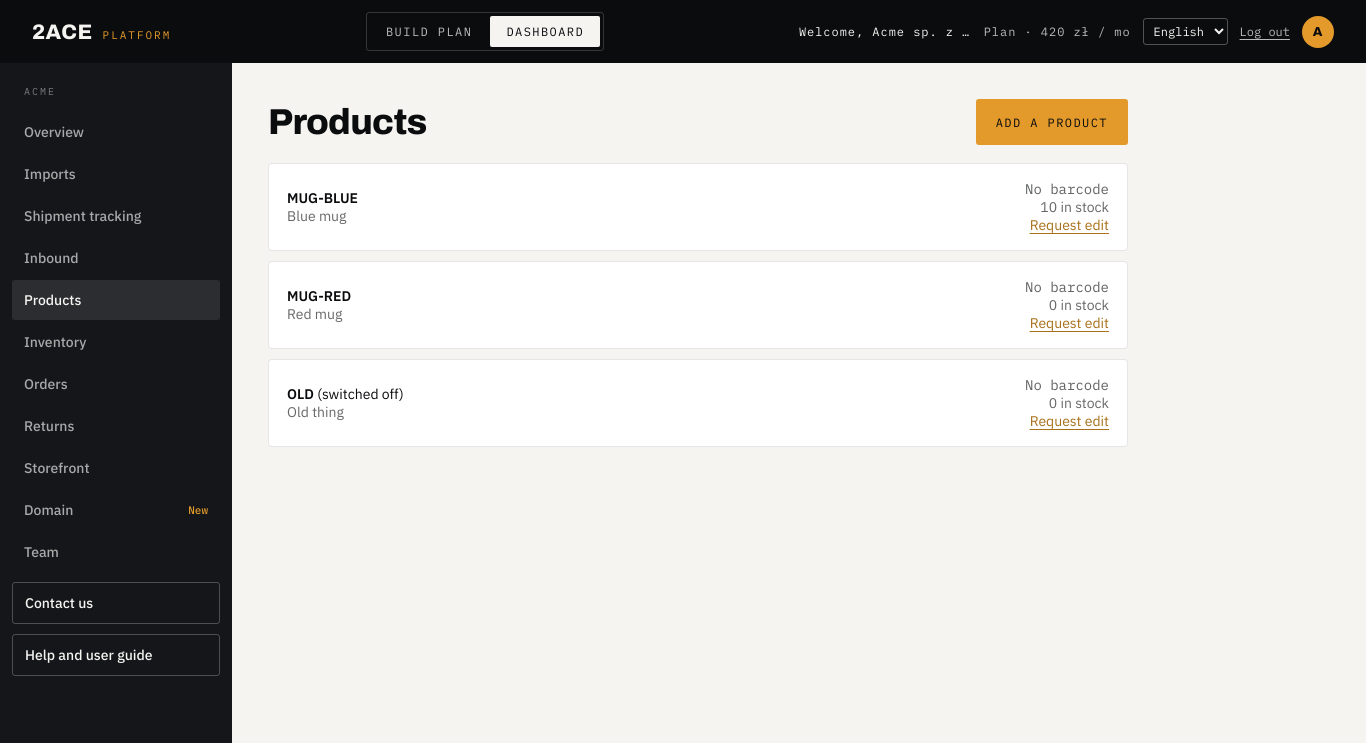
it: inventory and products › editing a product is a request for approval; nothing is written directly
Click the button "Request edit" below "10 in stock" at (1069, 225), box [1030, 216, 1109, 234]
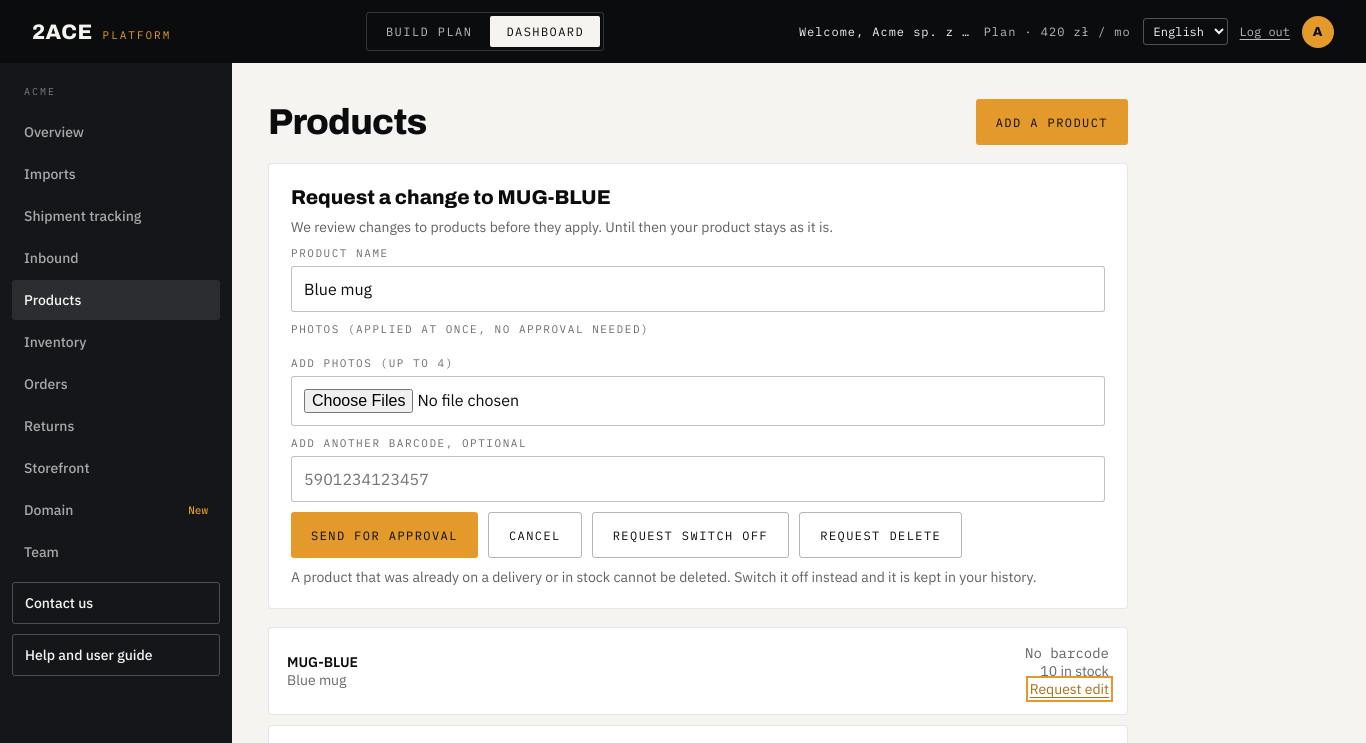
Replace the text in the field labelled "Product name" with "Big blue mug" at (698, 289), box [291, 266, 1105, 312]
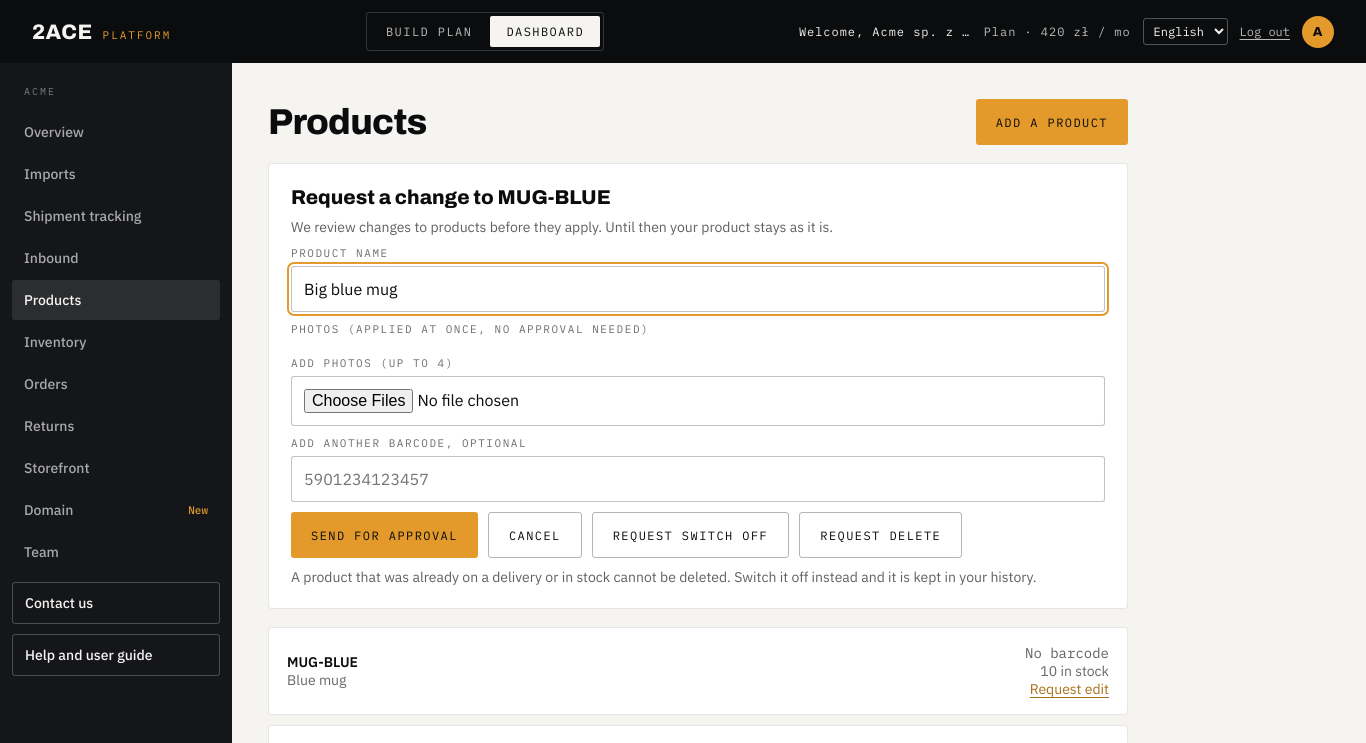
Click the button "Send for approval" at (384, 535), box [291, 512, 478, 558]
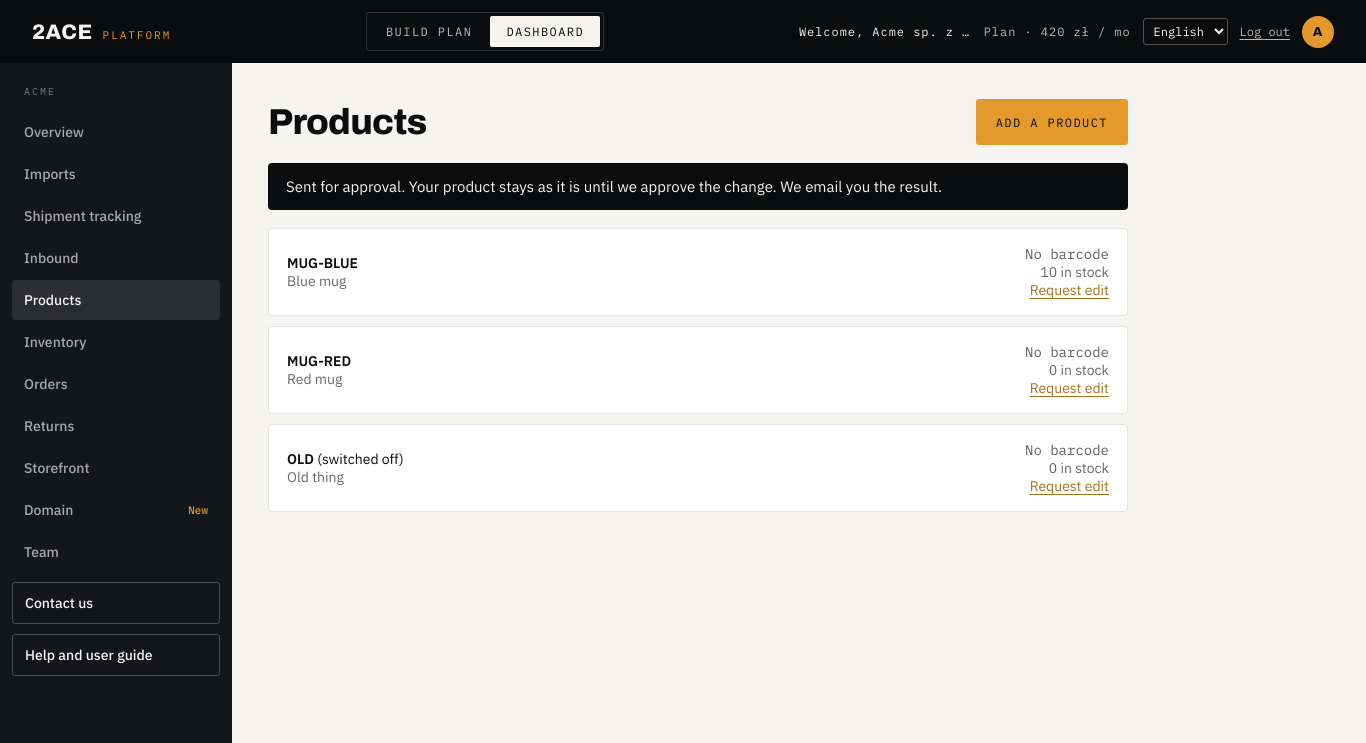
expect the text "Sent for approval." is shown: met, box [286, 177, 942, 196]
